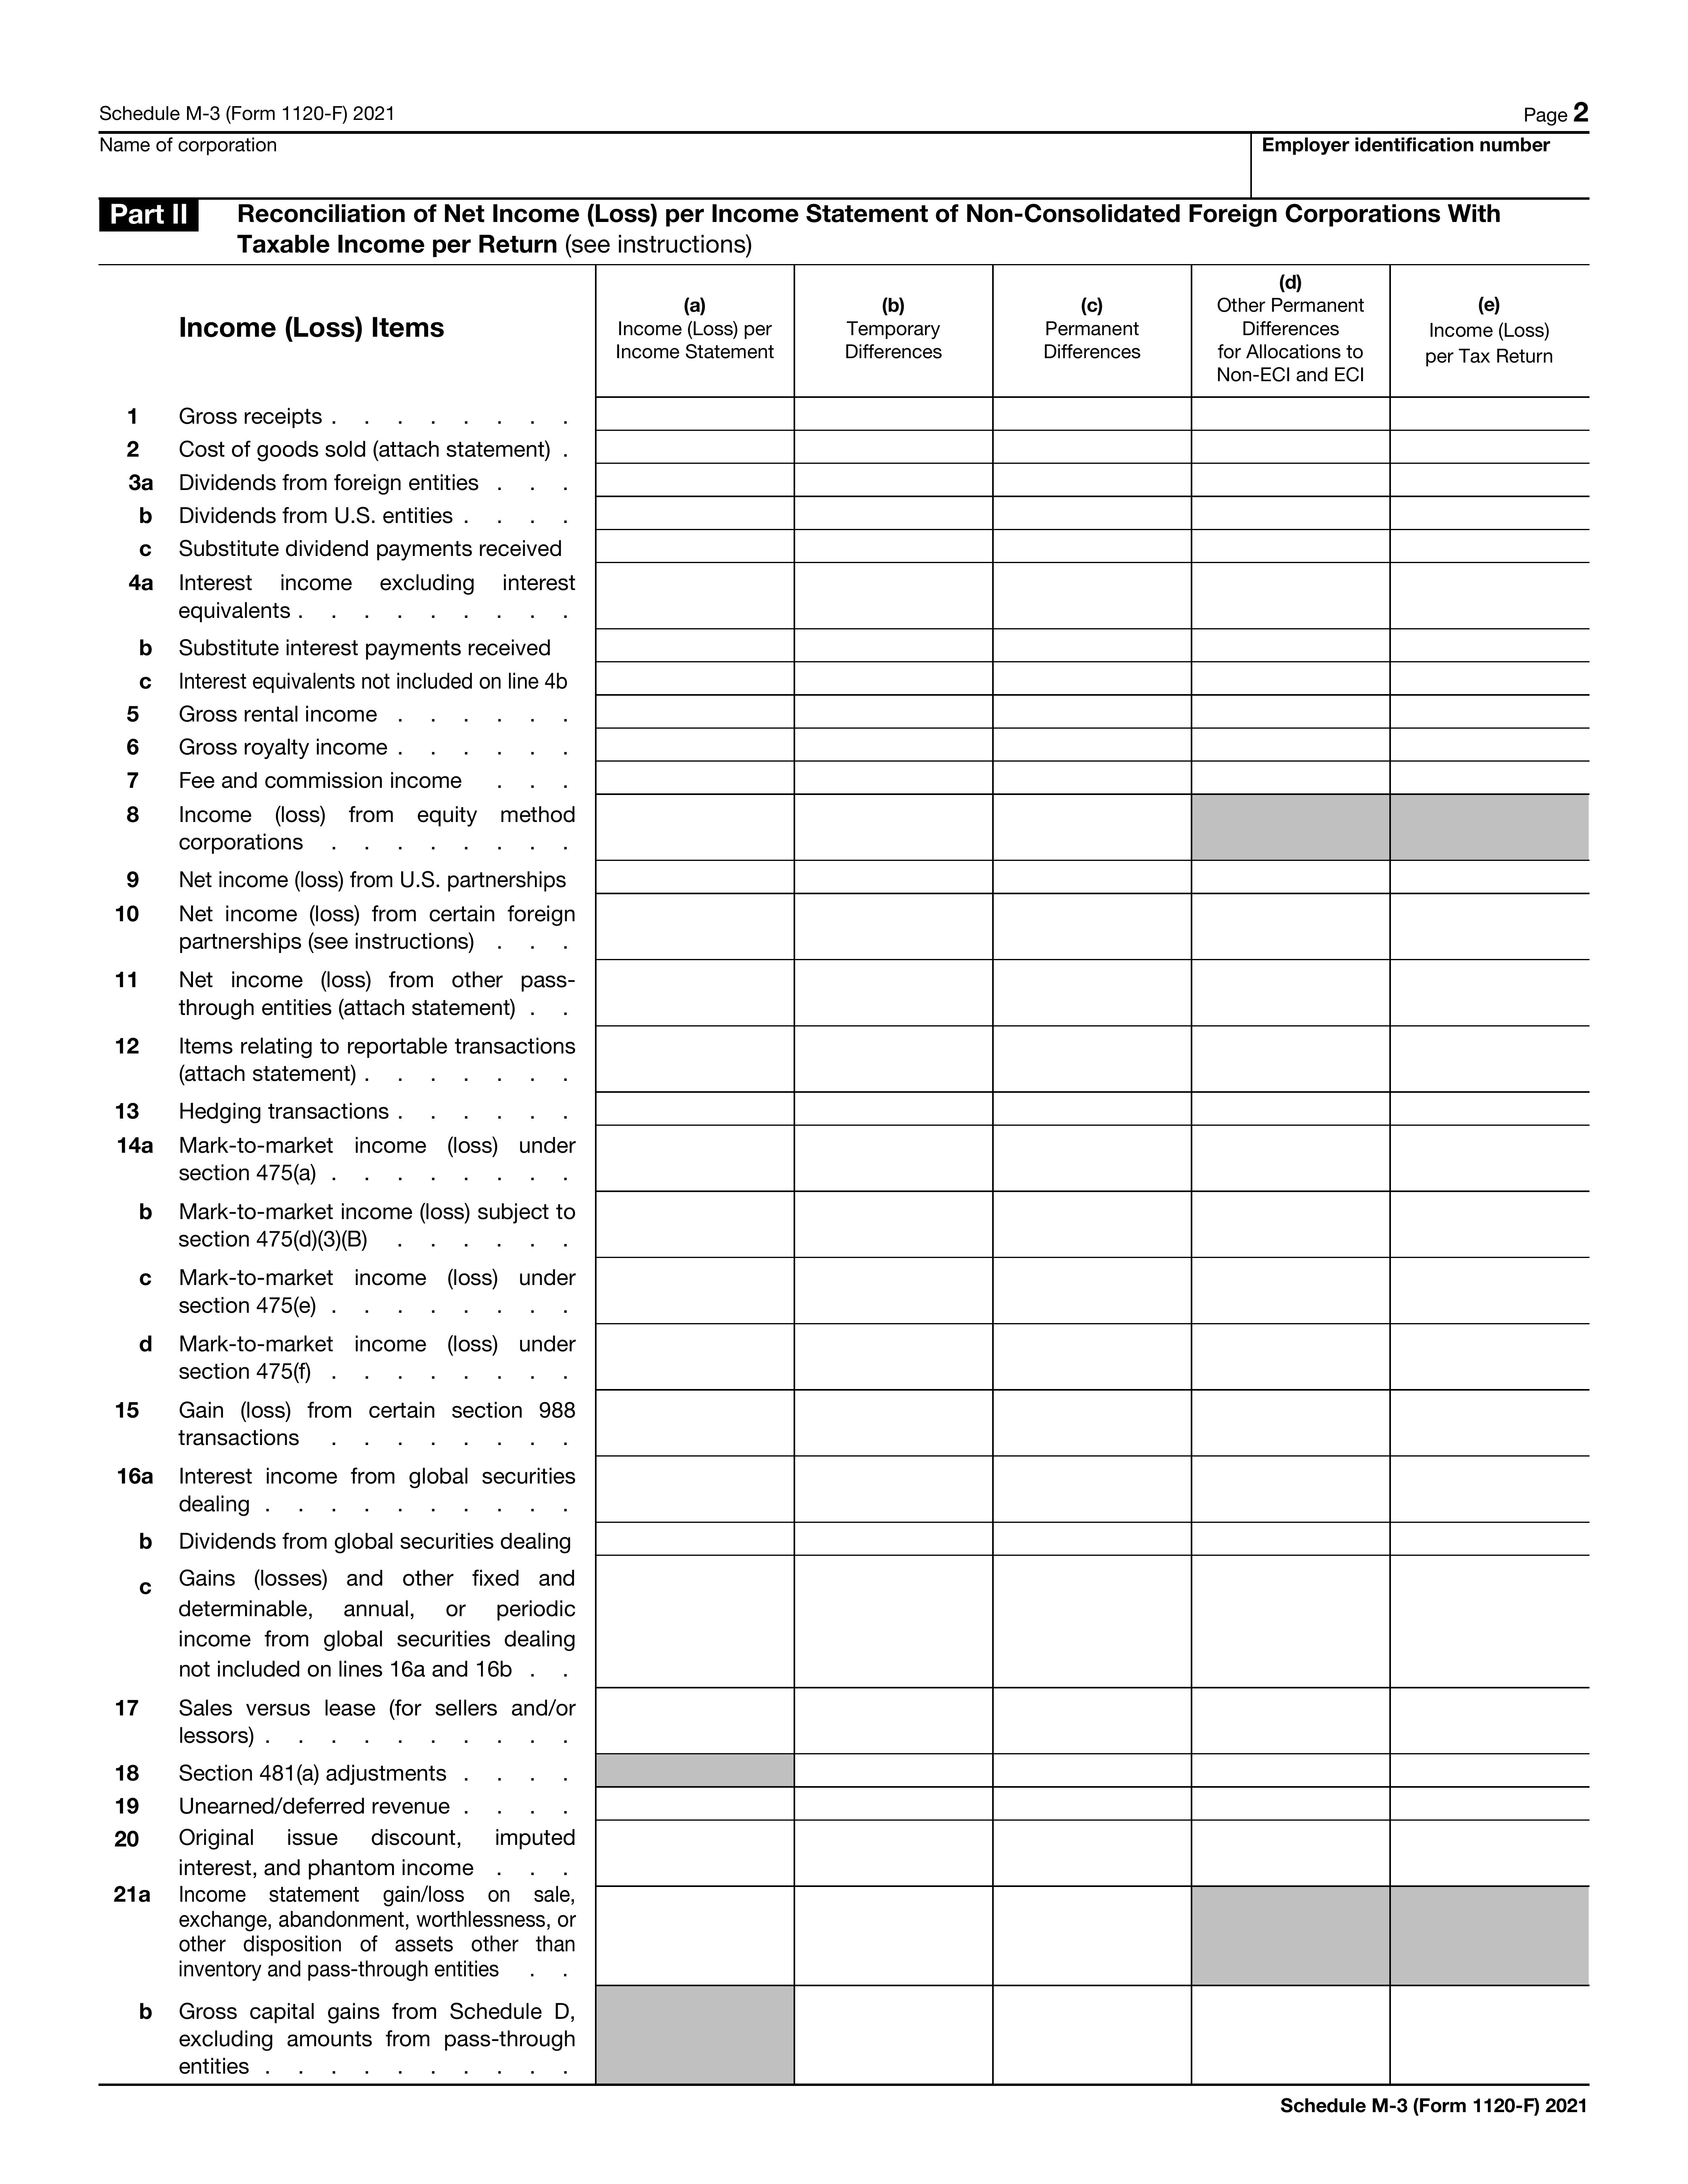table: (85, 253, 1603, 2094)
